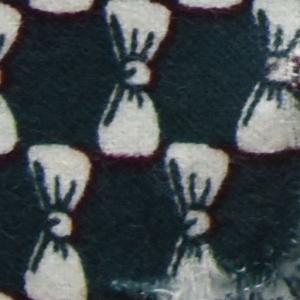Damage: (109, 227, 300, 300), (286, 51, 300, 105)
